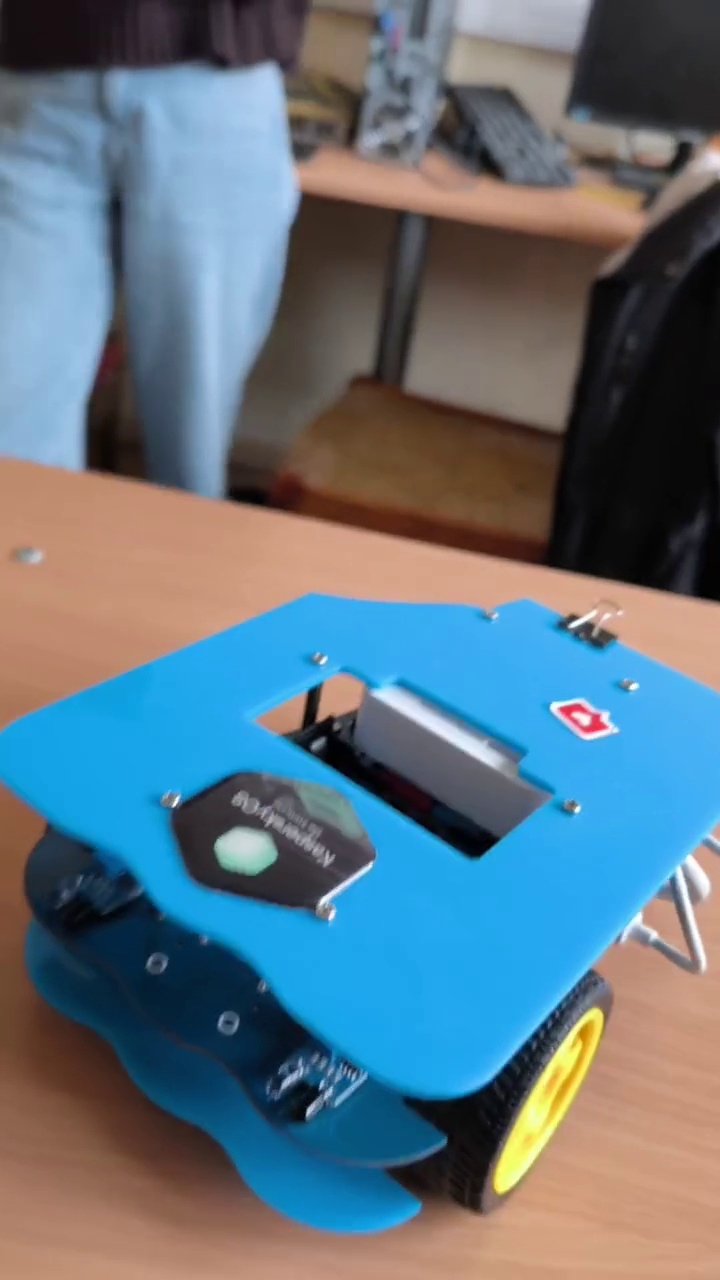robot: (1, 589, 720, 1234)
